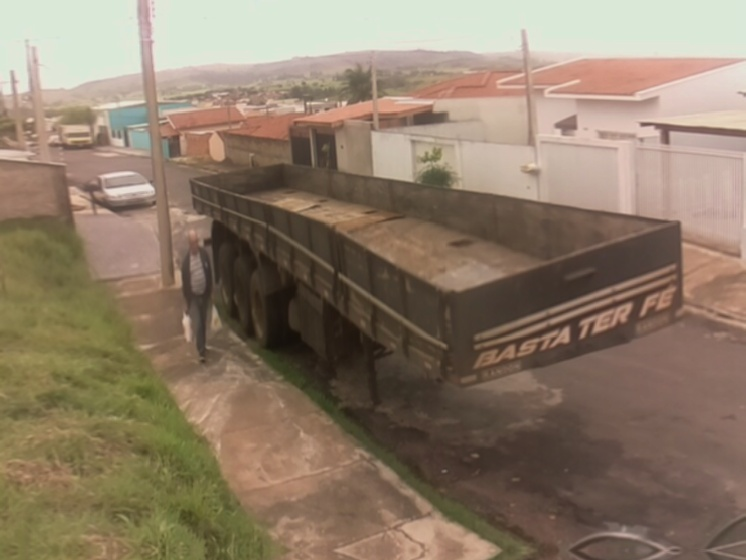person: (181, 225, 216, 367)
